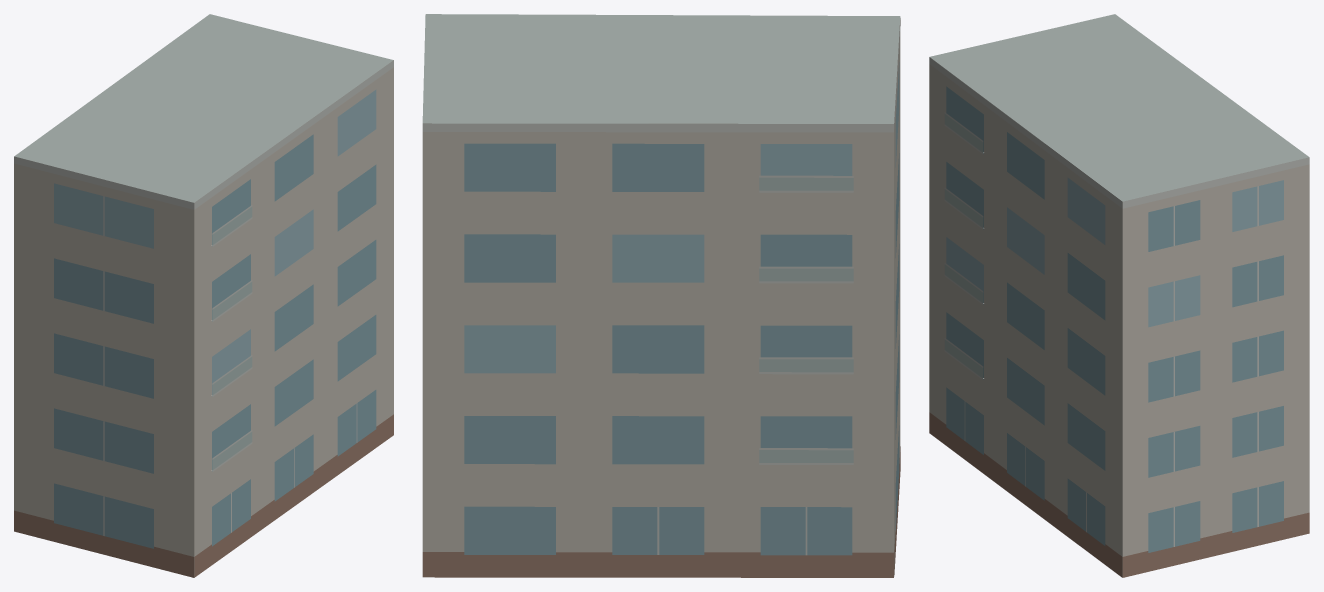
Rendered from survey-upis-32664377.glb.
3 views of the same model, side by side, from view 1: azimuth 30°, elevation 25°; view 2: azimuth 150°, elevation 25°; view 3: azimuth 270°, elevation 25° (orthographic). The views are drawn at different scales.
Visible parts, largest first — view 1: survey-upis-32664377.tmp; view 2: survey-upis-32664377.tmp; view 3: survey-upis-32664377.tmp.
Boxes of the visible parts, x1,y1,x2,y2 form: survey-upis-32664377.tmp: [14, 14, 393, 577]; survey-upis-32664377.tmp: [422, 14, 900, 577]; survey-upis-32664377.tmp: [929, 14, 1309, 577].
Size of the model in its own units: 13.92 by 13 by 11.92.
